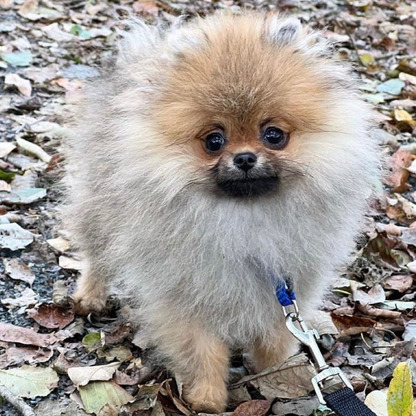Pomeranian: (57, 29, 393, 392)
